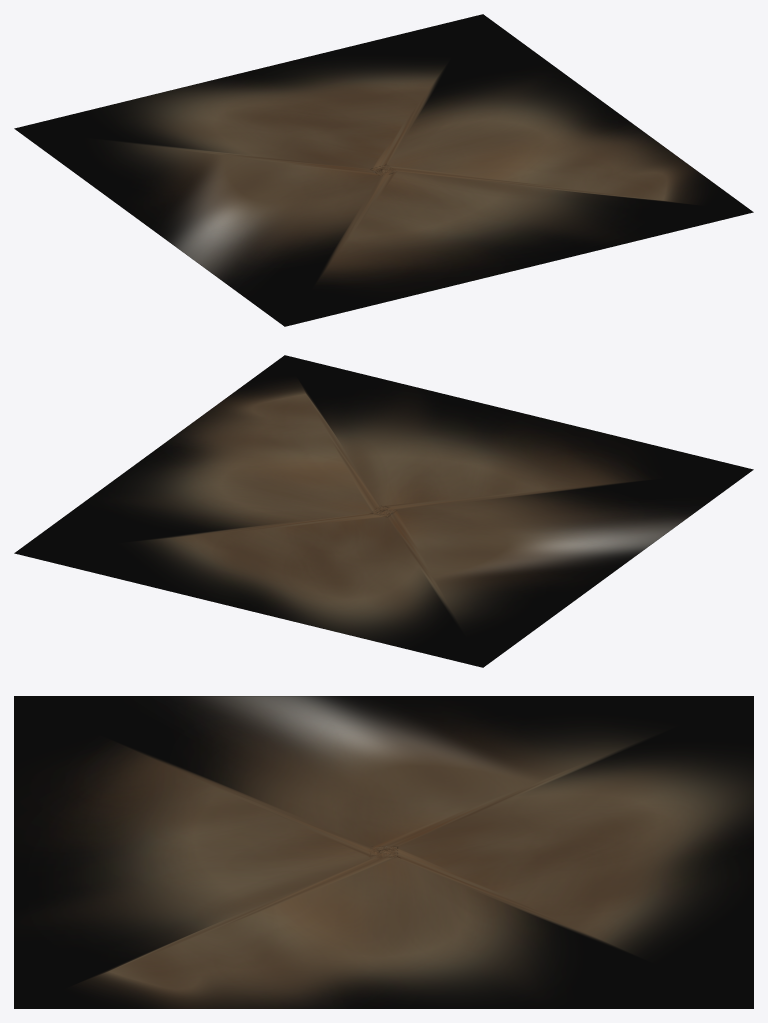
Rendered from landscape.fbx.
3 renders of one model, top to bottom at view 1: azimuth 30°, elevation 25°; view 2: azimuth 150°, elevation 25°; view 3: azimuth 270°, elevation 25°, orthographic. The views are drawn at different scales.
Parts seen in each view (by area): view 1: Landscape; view 2: Landscape; view 3: Landscape.
Boxes of the visible parts, left/top/right/bottom form: Landscape: left=14, top=14, right=753, bottom=326; Landscape: left=14, top=355, right=753, bottom=667; Landscape: left=14, top=696, right=753, bottom=1008.
Size of the model in its own units: 20187 by 59.54 by 20187.
1 material, 1 textured.
